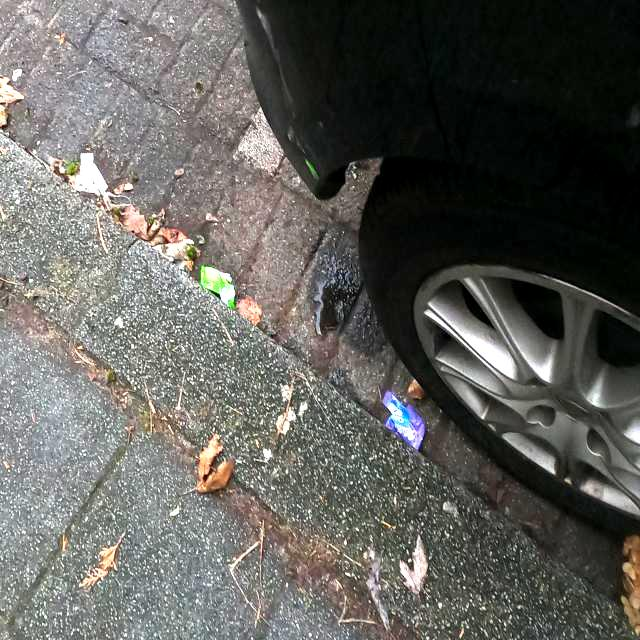Mask: (74, 151, 132, 211)
Plastic: (380, 388, 426, 452), (200, 264, 238, 312)
